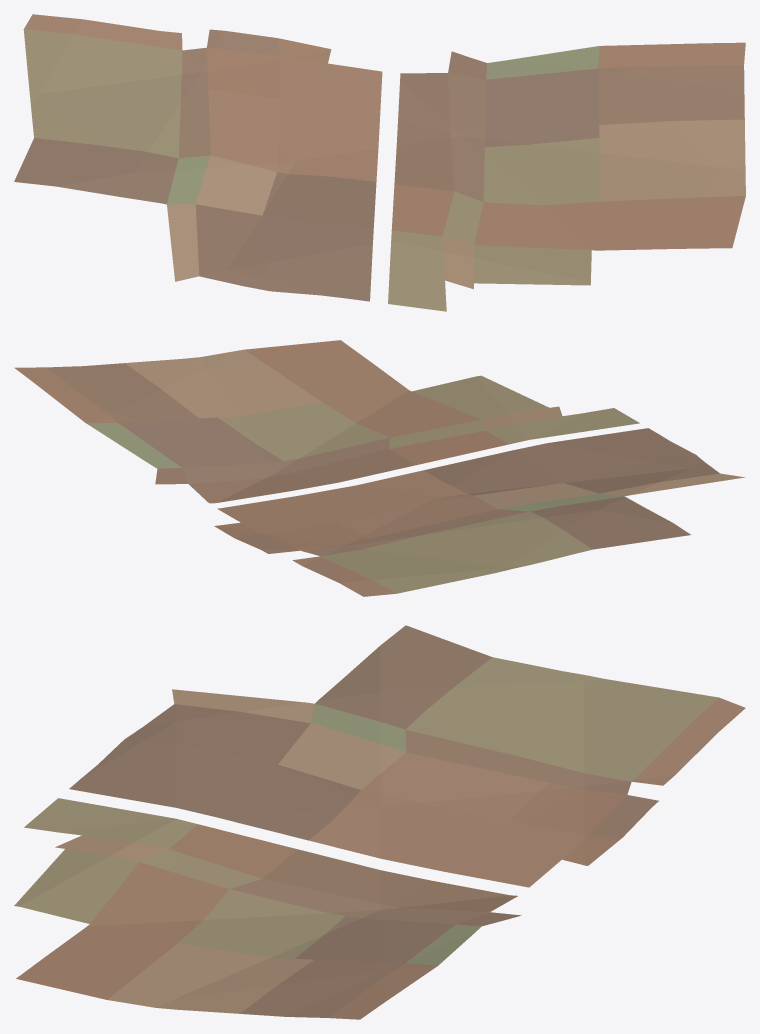
The model's file is farm_-1_5_soil.glb.
The picture shows the model from 3 angles, top to bottom: view 1: azimuth 30°, elevation 25°; view 2: azimuth 150°, elevation 25°; view 3: azimuth 270°, elevation 25°; orthographic projection. The views are drawn at different scales.
Visible parts, largest first — view 1: geometry_0; view 2: geometry_0; view 3: geometry_0.
Boxes of the visible parts, left/top/right/bottom form: geometry_0: left=14, top=14, right=745, bottom=311; geometry_0: left=14, top=340, right=745, bottom=596; geometry_0: left=14, top=625, right=745, bottom=1019.
Bounding box in the file's own units: 347 × 35.75 × 287.
